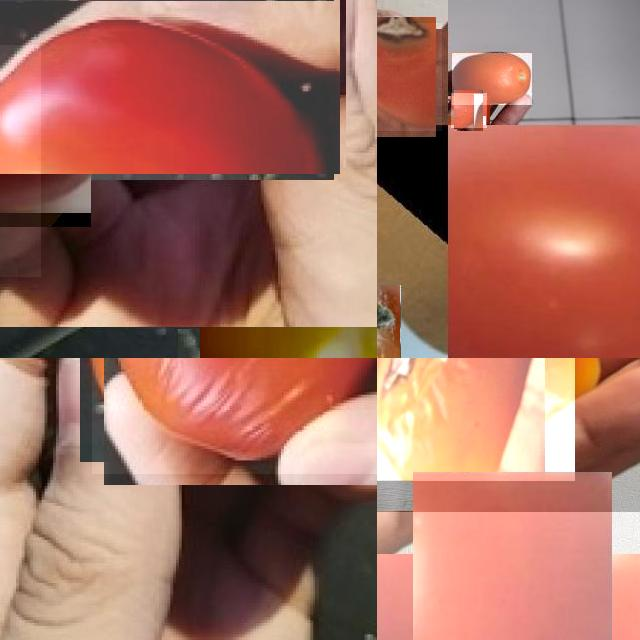0: (0, 0, 340, 174), (0, 45, 41, 277)
Fresh Tomato: (448, 125, 640, 358), (377, 512, 640, 640), (452, 53, 532, 105), (451, 93, 487, 128)
Rotten Tomato: (91, 358, 377, 473), (377, 358, 575, 481), (377, 23, 442, 131)
